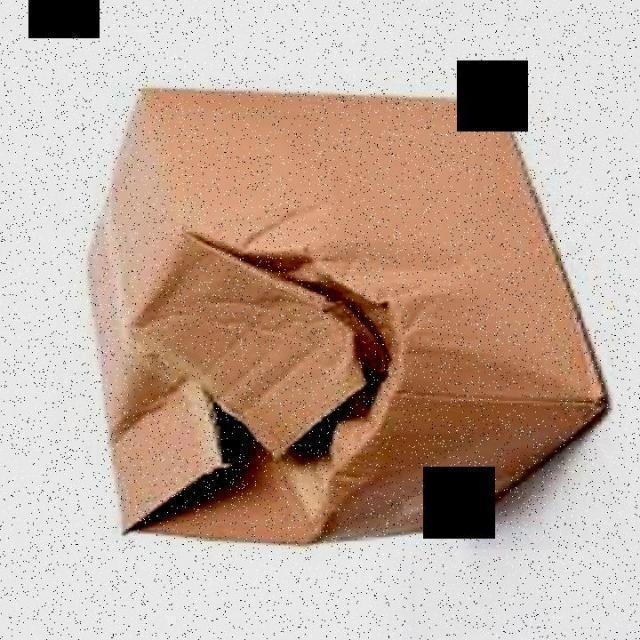box: (78, 82, 627, 550)
